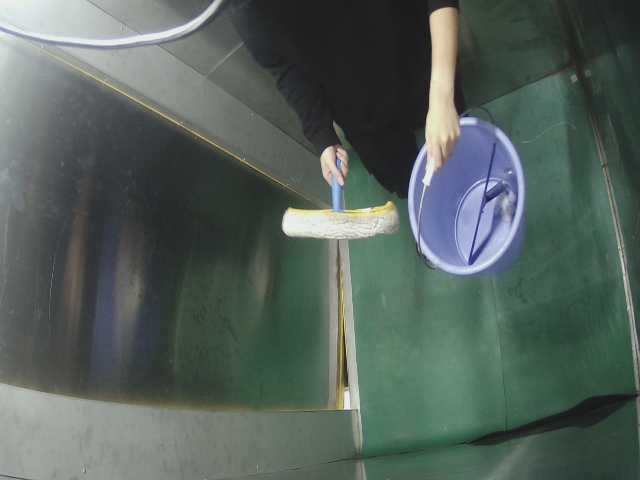bucket: (403, 109, 532, 280)
person: (215, 1, 495, 198)
